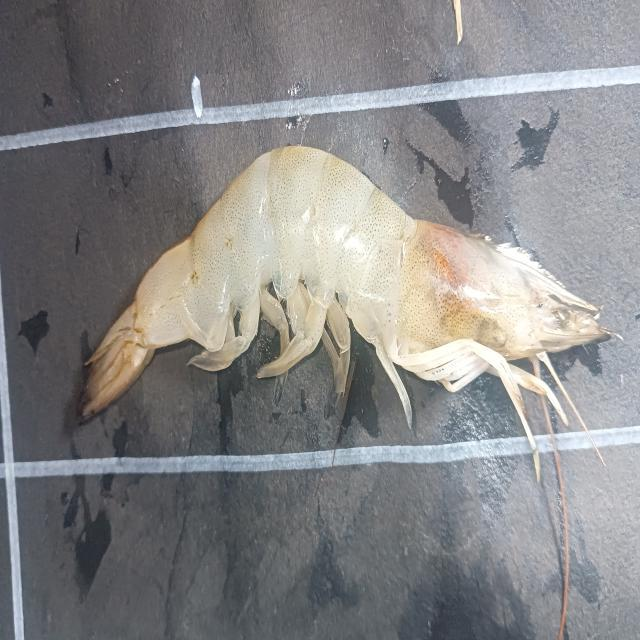shrimp: (81, 146, 612, 480)
